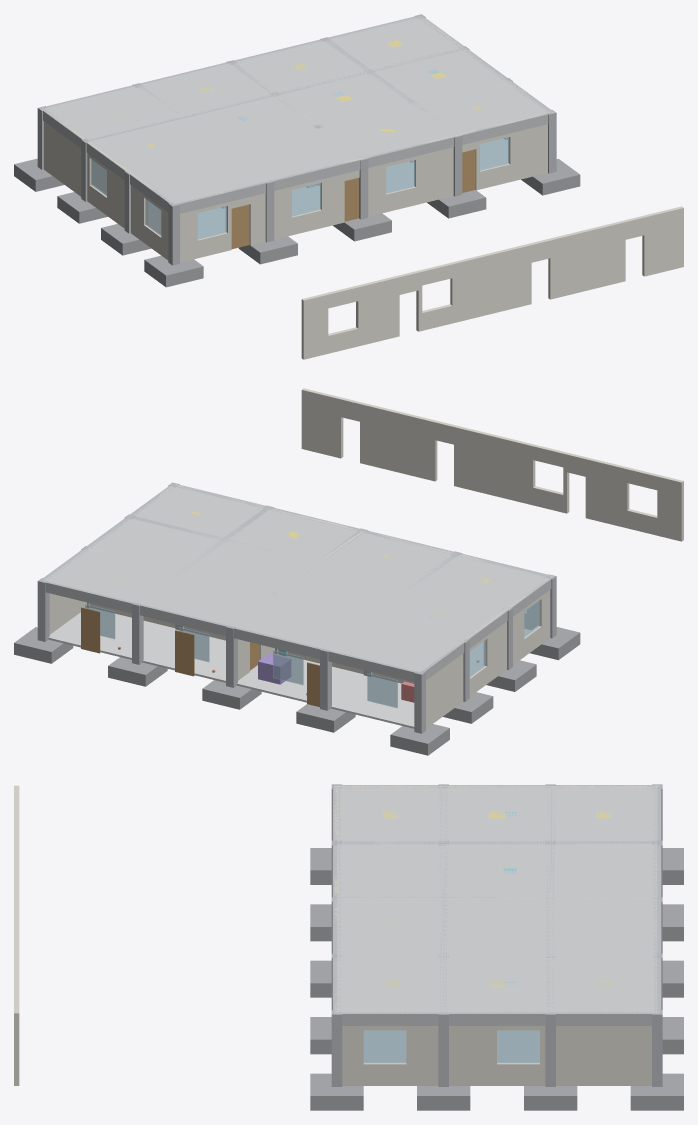
The model's file is rev-a.glb.
3 renders of one model, top to bottom at view 1: azimuth 30°, elevation 25°; view 2: azimuth 150°, elevation 25°; view 3: azimuth 270°, elevation 25°, orthographic. The views are drawn at different scales.
Parts seen in each view (by area): view 1: slabs (IfcSlab), walls (IfcWall), beams (IfcBeam), foundations (IfcFooting), columns (IfcColumn), glazing (IfcWindow), floors (IfcSlab), doors (IfcDoor); view 2: slabs (IfcSlab), walls (IfcWall), floors (IfcSlab), beams (IfcBeam), foundations (IfcFooting), columns (IfcColumn), glazing (IfcWindow), doors (IfcDoor), equipment (IfcBuildingElementProxy); view 3: slabs (IfcSlab), walls (IfcWall), foundations (IfcFooting), beams (IfcBeam), columns (IfcColumn), glazing (IfcWindow), floors (IfcSlab).
Part boxes in pixels (box(x1,y1,x2,y2)): slabs (IfcSlab): box(45, 17, 549, 203); walls (IfcWall): box(41, 16, 683, 359); beams (IfcBeam): box(41, 16, 552, 213); foundations (IfcFooting): box(14, 158, 580, 287); columns (IfcColumn): box(37, 14, 556, 265); glazing (IfcWindow): box(91, 137, 509, 239); floors (IfcSlab): box(148, 138, 507, 237); doors (IfcDoor): box(231, 149, 475, 249); slabs (IfcSlab): box(44, 487, 547, 671); walls (IfcWall): box(44, 388, 683, 728); floors (IfcSlab): box(48, 608, 530, 728); beams (IfcBeam): box(41, 484, 551, 681); foundations (IfcFooting): box(14, 627, 580, 755); columns (IfcColumn): box(37, 482, 556, 733); glazing (IfcWindow): box(85, 600, 540, 707); doors (IfcDoor): box(81, 607, 319, 706); equipment (IfcBuildingElementProxy): box(258, 653, 290, 684); slabs (IfcSlab): box(337, 786, 657, 1012); walls (IfcWall): box(14, 785, 659, 1085); foundations (IfcFooting): box(310, 848, 683, 1110); beams (IfcBeam): box(333, 785, 661, 1025); columns (IfcColumn): box(331, 784, 662, 1086); glazing (IfcWindow): box(363, 1030, 539, 1063); floors (IfcSlab): box(364, 1030, 539, 1061).
Size of the model in its own units: 22 by 3.6 by 25.1.
